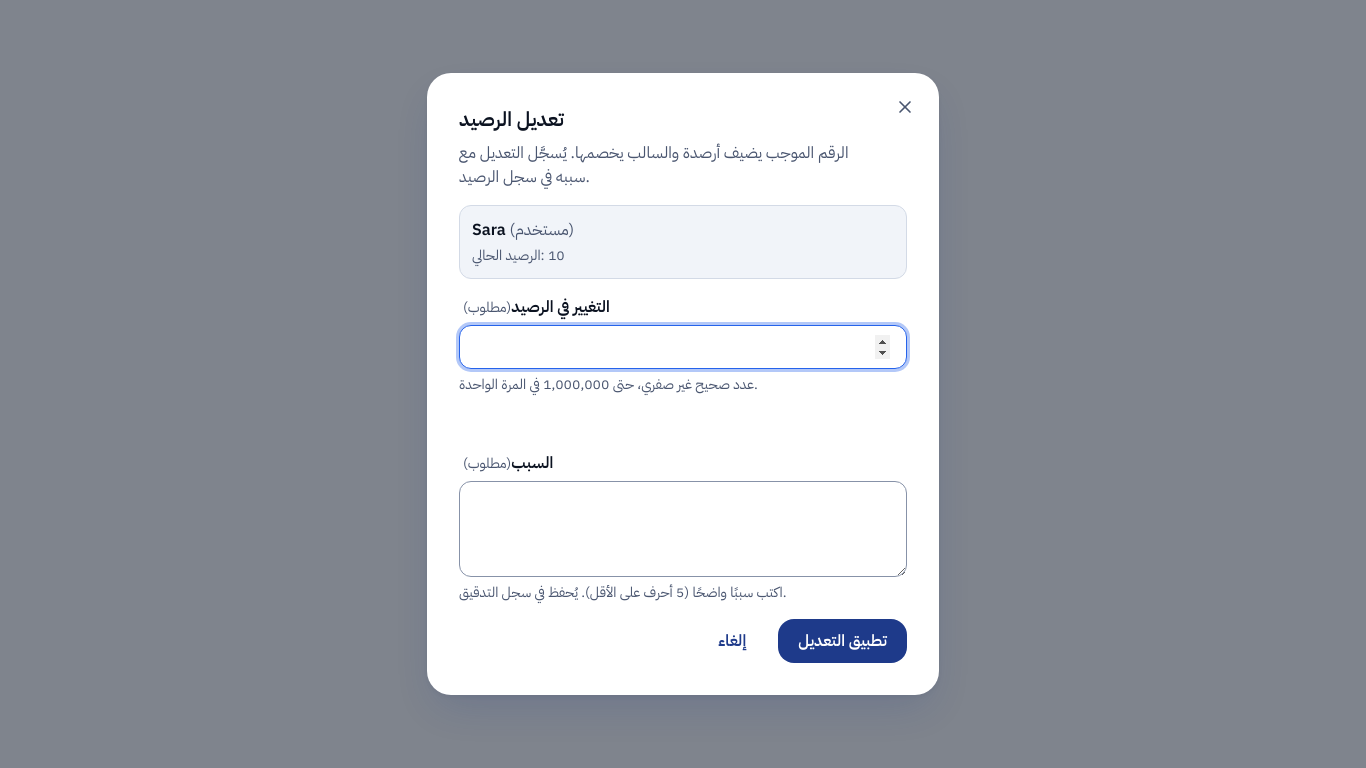
it: AdjustCreditsDialog › warns when a deduction would go below zero
This screenshot has width=1366, height=768.
Type "-15" into the number field labelled "التغيير في الرصيد(مطلوب)". click: (683, 347)
box: x1=459 y1=325 x2=907 y2=369
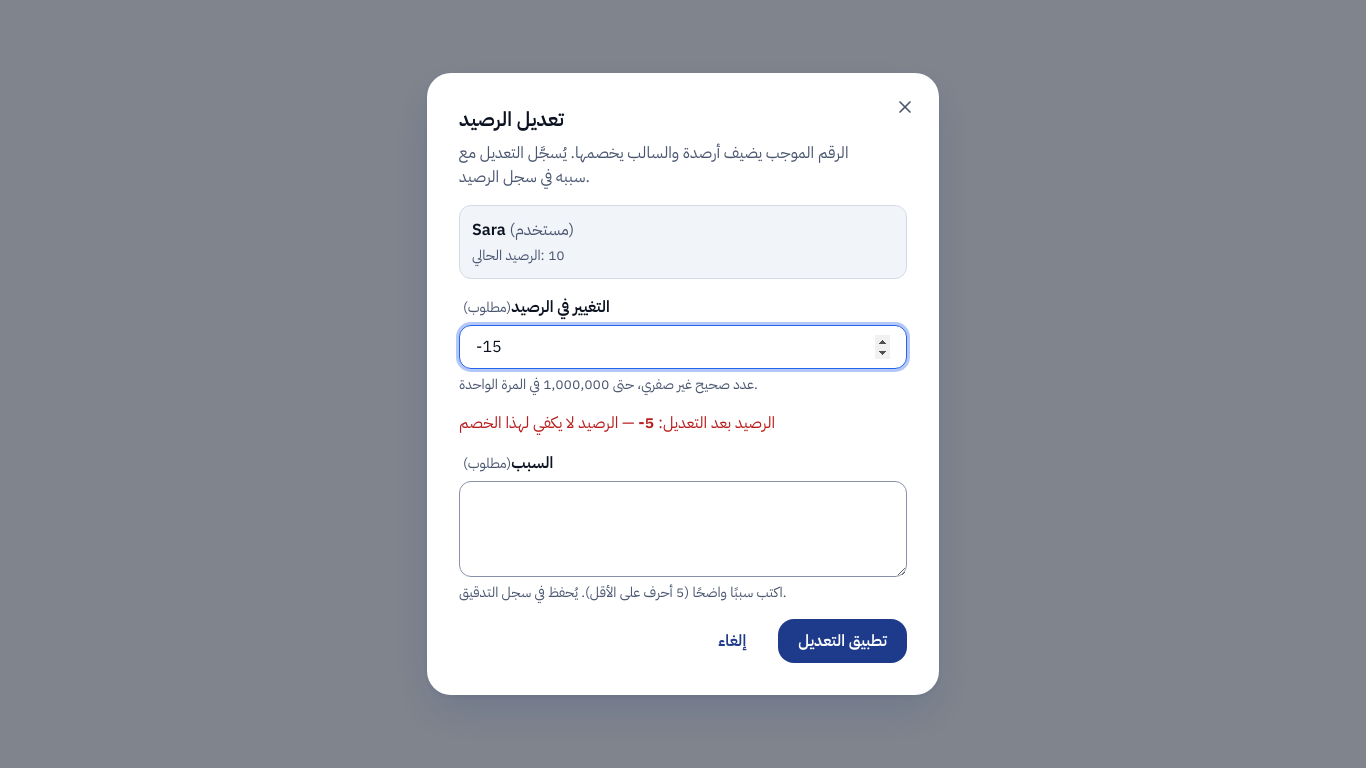
Now the text "الرصيد لا يكفي لهذا الخصم" is shown, box x1=459 y1=411 x2=638 y2=435
